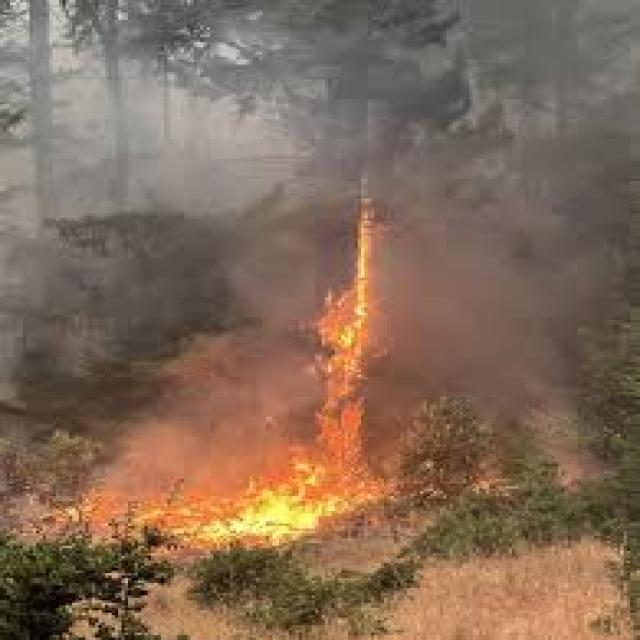Fire: (195, 204, 440, 546)
Smoke: (85, 0, 640, 486), (0, 136, 601, 432)
